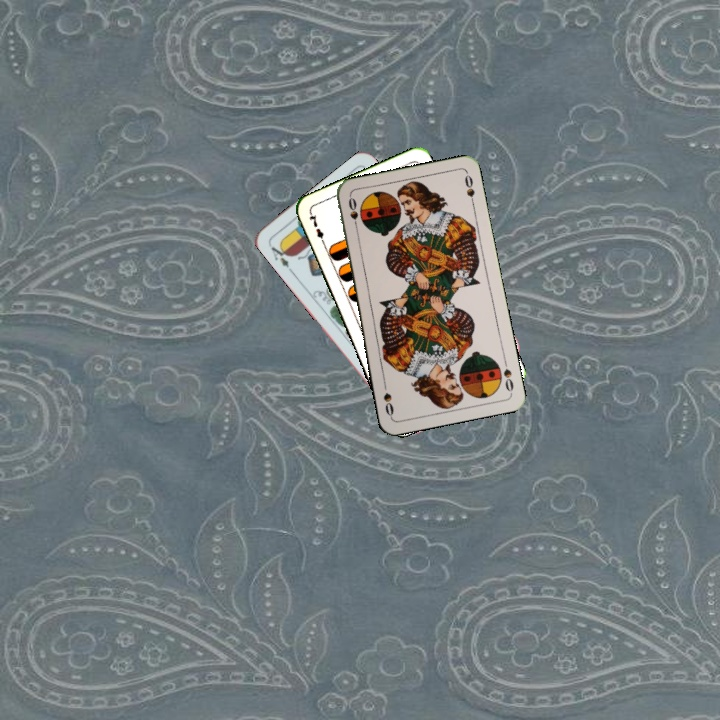E7: (305, 209, 328, 248)
EA: (265, 240, 295, 275)
SO: (344, 193, 361, 234), (499, 355, 516, 394)
